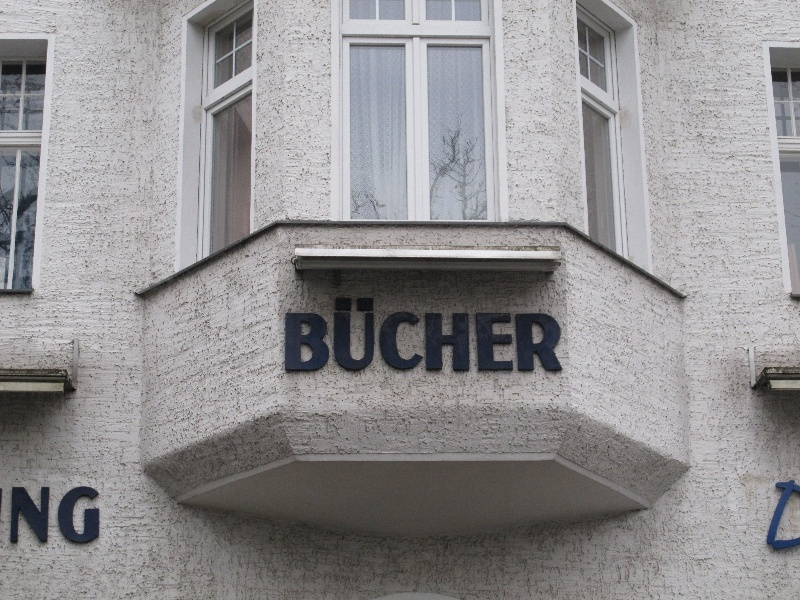text: (289, 294, 304, 374), (305, 294, 320, 374), (321, 294, 336, 374), (337, 294, 352, 374), (353, 294, 368, 374), (369, 294, 384, 374), (385, 294, 400, 374), (401, 294, 416, 374), (417, 294, 432, 374), (433, 294, 448, 374), (449, 294, 464, 374), (465, 294, 480, 374), (481, 294, 496, 374), (497, 294, 512, 374), (513, 294, 528, 374), (529, 294, 544, 374), (545, 294, 560, 374), (785, 478, 800, 556), (17, 486, 32, 546), (33, 486, 48, 546), (49, 486, 64, 546), (65, 486, 80, 546), (81, 486, 96, 546), (775, 478, 784, 556), (282, 294, 288, 374), (561, 294, 565, 374), (11, 486, 16, 546), (97, 486, 101, 546)
